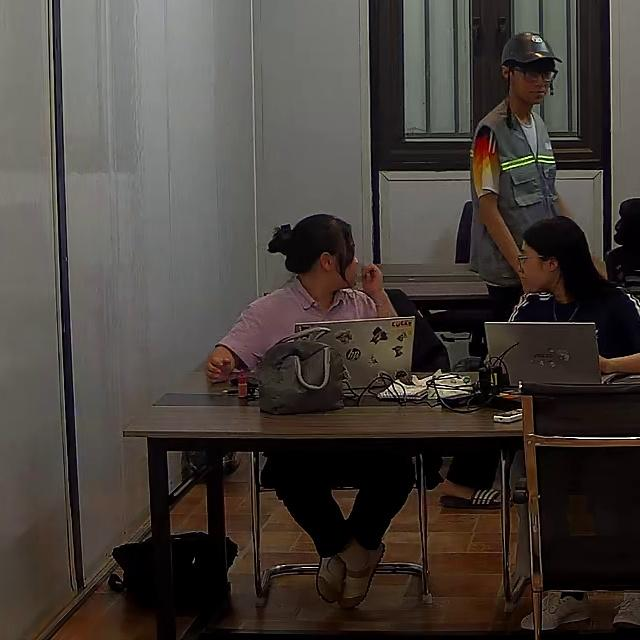helmet: (500, 30, 565, 68)
no_helmet: (269, 213, 354, 276)
none: (216, 278, 379, 372), (510, 284, 638, 363)
vest: (470, 99, 562, 284)
